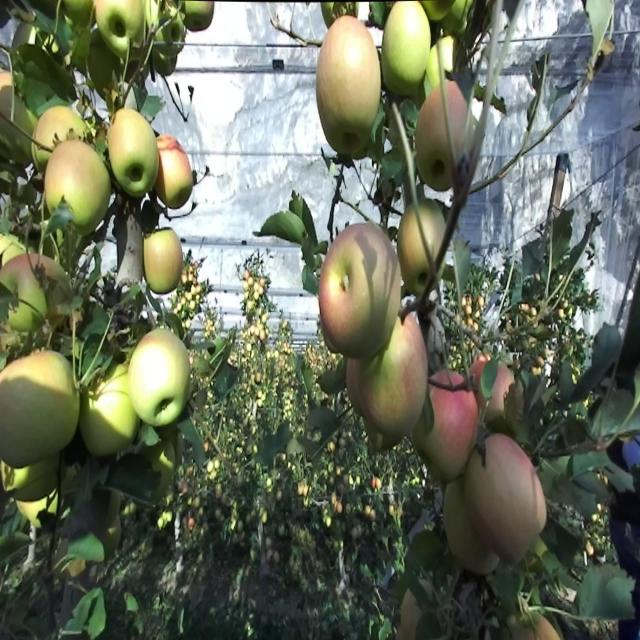apple: (319, 222, 401, 359), (316, 16, 381, 156), (359, 313, 428, 437), (45, 140, 111, 234), (412, 387, 478, 481), (128, 329, 190, 427), (128, 329, 189, 427), (416, 387, 478, 480), (79, 364, 139, 456), (381, 0, 431, 96), (108, 111, 159, 194), (415, 87, 452, 190), (0, 253, 46, 331), (45, 140, 85, 226), (470, 356, 515, 422), (470, 356, 514, 422), (1, 453, 59, 501), (398, 204, 429, 292), (155, 136, 192, 209), (144, 229, 181, 293), (10, 453, 59, 501), (34, 107, 85, 150), (95, 0, 144, 41), (446, 80, 468, 154), (419, 200, 445, 260), (1, 460, 51, 491), (106, 0, 144, 40), (469, 353, 490, 409), (154, 424, 181, 466), (365, 420, 401, 451), (146, 440, 176, 477), (401, 260, 428, 296), (0, 460, 31, 491), (185, 0, 214, 30), (421, 1, 455, 21), (421, 1, 454, 21), (426, 44, 440, 87), (31, 142, 49, 170), (440, 36, 454, 71), (435, 369, 462, 384), (435, 371, 462, 384)
